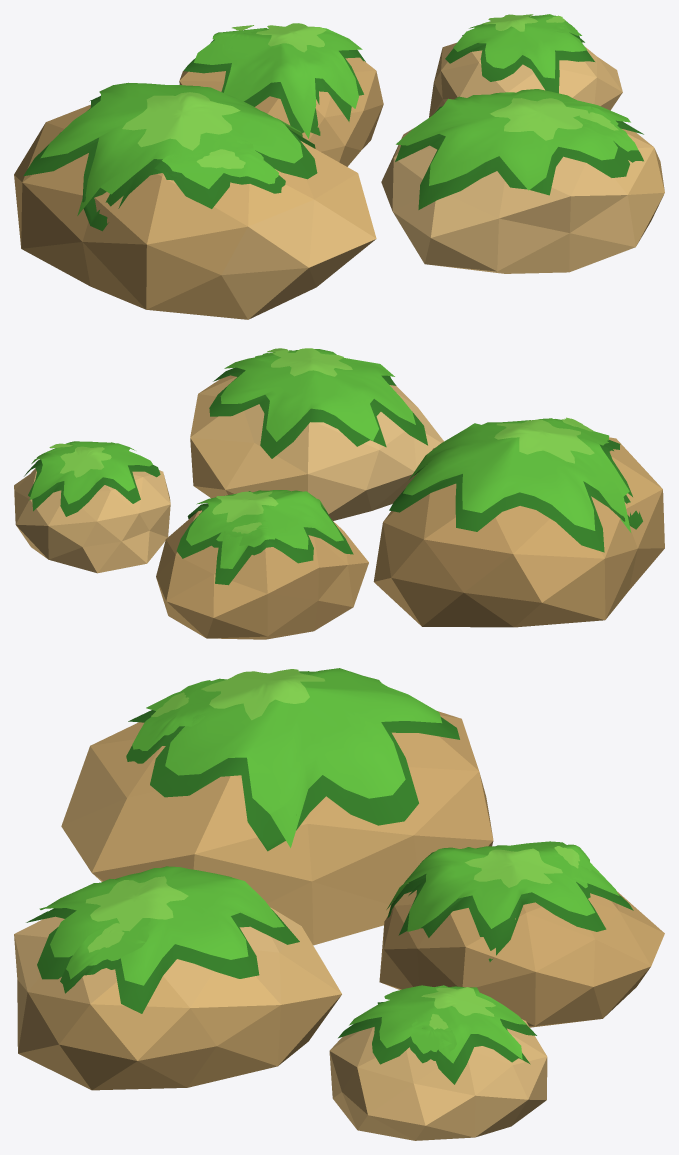
Rendered from rock_8_cap.glb.
3 renders of one model, top to bottom at view 1: azimuth 30°, elevation 25°; view 2: azimuth 150°, elevation 25°; view 3: azimuth 270°, elevation 25°, orthographic. The views are drawn at different scales.
Visible parts, largest first — view 1: rock_8_cap; view 2: rock_8_cap; view 3: rock_8_cap.
Part boxes in pixels (x1=…): rock_8_cap: x1=14, y1=14, x2=664, y2=319; rock_8_cap: x1=14, y1=348, x2=664, y2=639; rock_8_cap: x1=14, y1=668, x2=664, y2=1140.
Bounding box in the file's own units: 1.32 × 0.3586 × 1.02.
